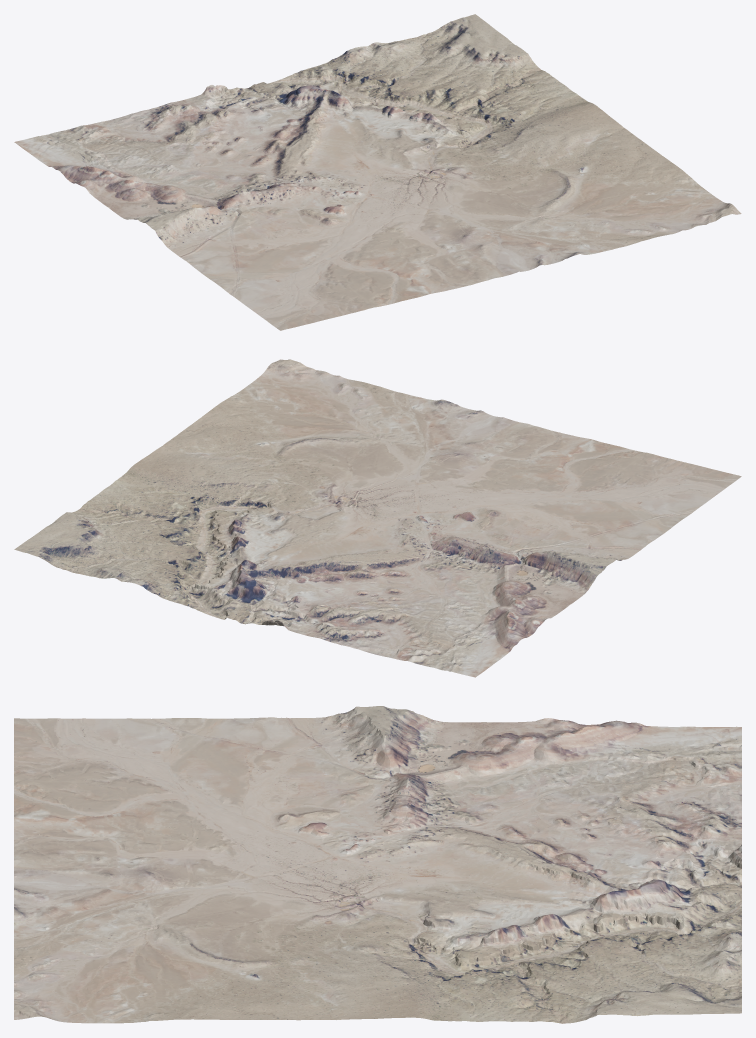
File: terrain.dae
3 views of the same model, one above another, from view 1: azimuth 30°, elevation 25°; view 2: azimuth 150°, elevation 25°; view 3: azimuth 270°, elevation 25° (orthographic). The views are drawn at different scales.
Parts seen in each view (by area): view 1: north_site800m; view 2: north_site800m; view 3: north_site800m.
Part boxes in pixels (x1,y1,x2,y2): north_site800m: [14, 14, 741, 330]; north_site800m: [14, 359, 741, 677]; north_site800m: [14, 706, 741, 1023].
Size of the model in its own units: 798 by 798 by 35.37.
Materials: 1 (1 with a texture image).
